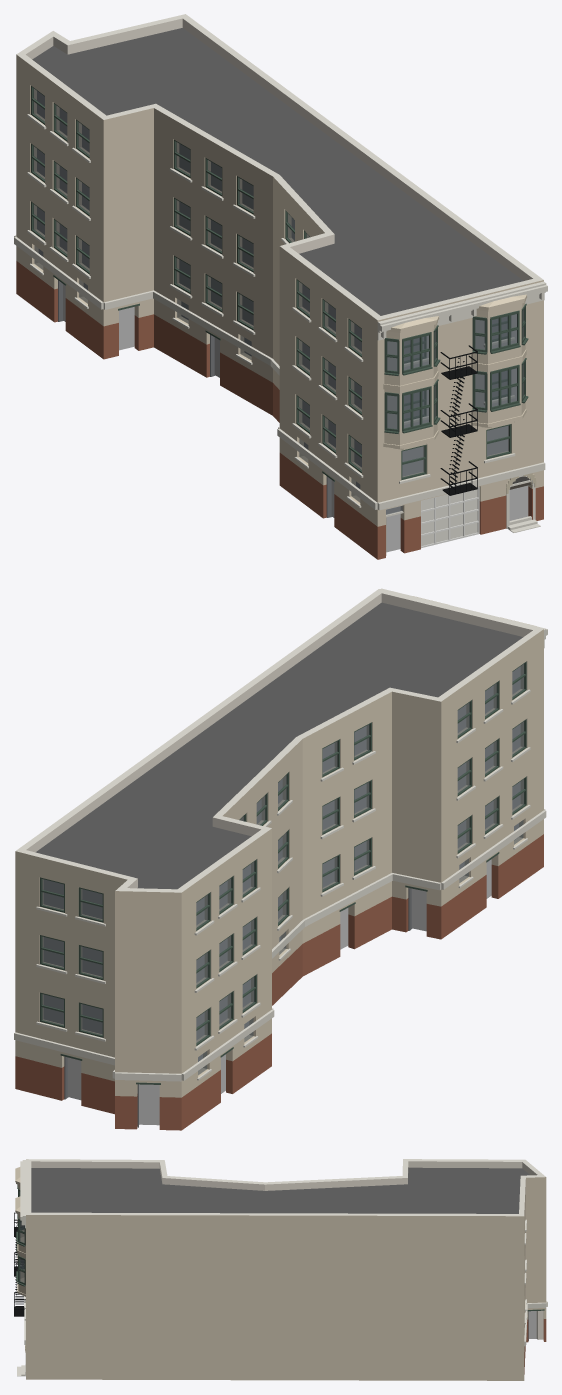
The model's file is exterior.glb.
The picture shows the model from 3 angles, top to bottom: view 1: azimuth 30°, elevation 25°; view 2: azimuth 150°, elevation 25°; view 3: azimuth 270°, elevation 25°; orthographic projection. The views are drawn at different scales.
Visible parts, largest first — view 1: shell, roof, glazing, shadow-proxy, trim, bay-glazing-hyb, frames, bay-windows-hyb, storefront, fire-escape; view 2: shell, roof, glazing, shadow-proxy, trim, frames, storefront; view 3: shell, roof, trim, bay-windows-hyb, bay-glazing-hyb, fire-escape.
Part boxes in pixels (left/top/right/bottom): shell: left=16, top=14, right=543, bottom=559; roof: left=32, top=28, right=523, bottom=315; glazing: left=33, top=88, right=529, bottom=514; shadow-proxy: left=37, top=91, right=528, bottom=552; trim: left=14, top=114, right=547, bottom=510; bay-glazing-hyb: left=384, top=303, right=528, bottom=433; frames: left=31, top=86, right=511, bottom=480; bay-windows-hyb: left=383, top=294, right=526, bottom=449; storefront: left=53, top=275, right=530, bottom=555; fire-escape: left=440, top=345, right=477, bottom=495; shell: left=15, top=589, right=543, bottom=1130; roof: left=35, top=602, right=523, bottom=889; glazing: left=42, top=664, right=523, bottom=1075; shadow-proxy: left=44, top=667, right=520, bottom=1125; trim: left=14, top=588, right=547, bottom=1081; frames: left=40, top=661, right=526, bottom=1045; storefront: left=60, top=852, right=499, bottom=1127; shell: left=26, top=1159, right=546, bottom=1380; roof: left=31, top=1167, right=529, bottom=1213; trim: left=20, top=1160, right=547, bottom=1346; bay-windows-hyb: left=15, top=1167, right=25, bottom=1296; bay-glazing-hyb: left=16, top=1184, right=25, bottom=1286; fire-escape: left=14, top=1212, right=25, bottom=1316.
Bounding box in the file's own units: 8.73 × 11.57 × 34.
